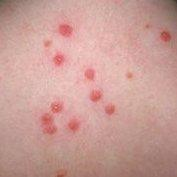Fleas: (37, 110, 58, 136), (81, 66, 104, 88), (51, 51, 67, 67), (66, 117, 82, 133), (47, 100, 63, 113), (103, 102, 117, 116), (58, 24, 72, 37), (88, 88, 102, 101), (160, 31, 170, 41), (54, 169, 67, 176), (43, 40, 52, 47), (125, 72, 132, 78)
